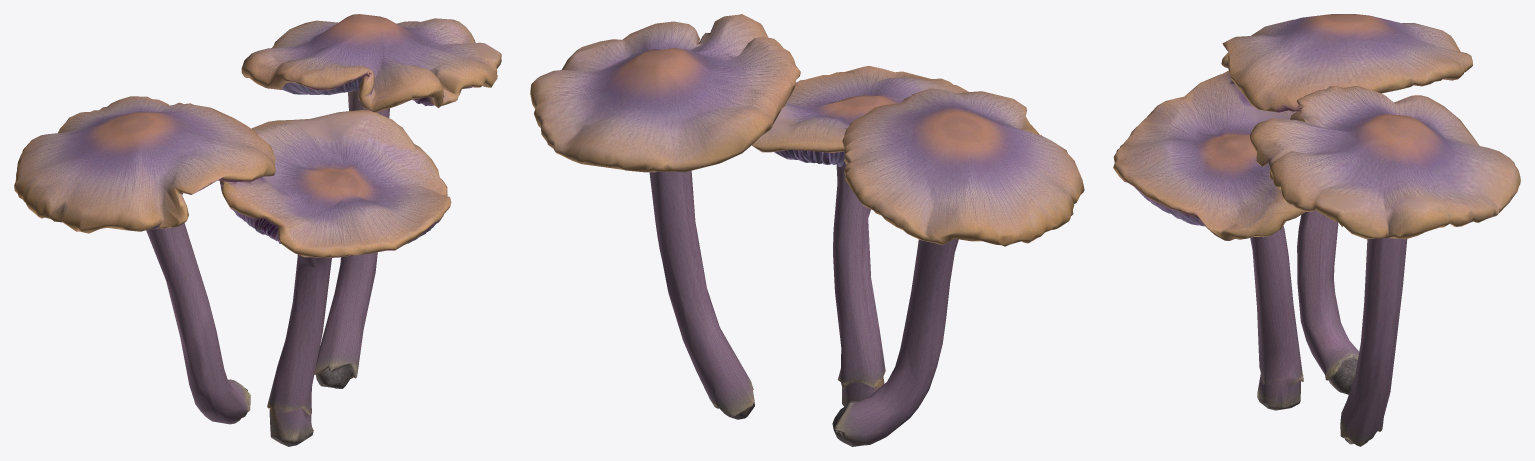
The model's file is mushroom_violetter_roetelritterling.glb.
3 views of the same model, side by side, from view 1: azimuth 30°, elevation 25°; view 2: azimuth 150°, elevation 25°; view 3: azimuth 270°, elevation 25° (orthographic). The views are drawn at different scales.
Parts seen in each view (by area): view 1: mushroom_violetter_roetelritterling_0; view 2: mushroom_violetter_roetelritterling_0; view 3: mushroom_violetter_roetelritterling_0.
Boxes of the visible parts, <box> form: mushroom_violetter_roetelritterling_0: <box>14,14,501,446</box>; mushroom_violetter_roetelritterling_0: <box>530,14,1084,446</box>; mushroom_violetter_roetelritterling_0: <box>1113,14,1520,446</box>.
Size of the model in its own units: 0.5328 by 0.38 by 0.3945.
1 material, 1 textured.
